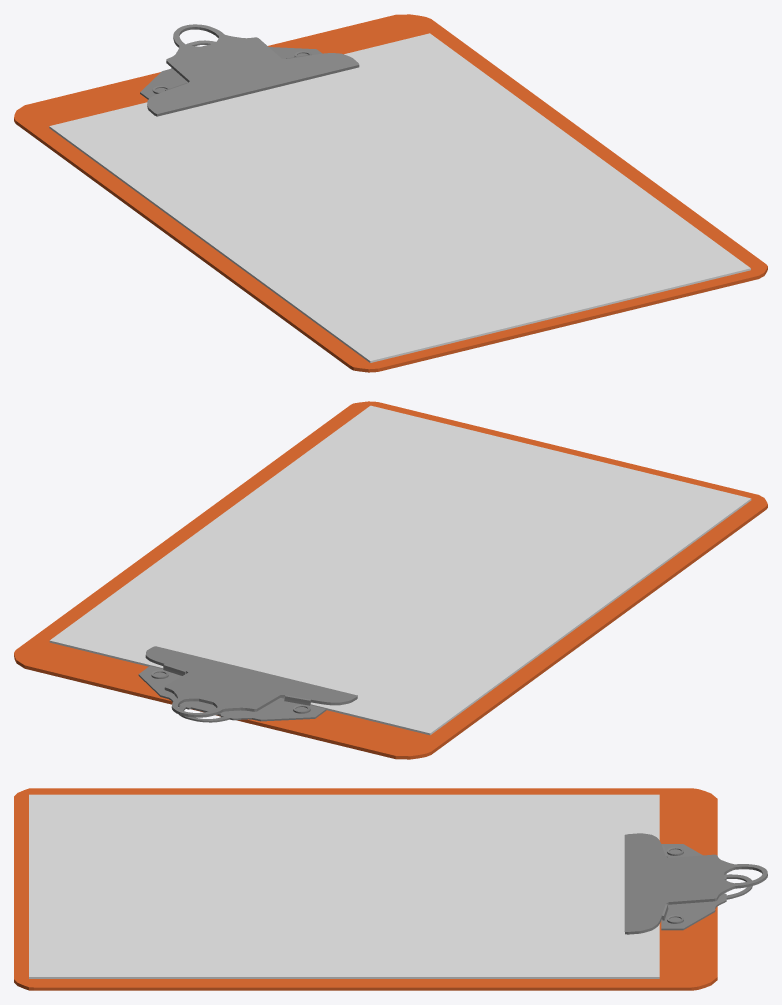
Rendered from Clipboard.fbx.
3 renders of one model, top to bottom at view 1: azimuth 30°, elevation 25°; view 2: azimuth 150°, elevation 25°; view 3: azimuth 270°, elevation 25°, orthographic.
Visible parts, largest first — view 1: Cube.002, Cube, Cube.003; view 2: Cube.002, Cube, Cube.003; view 3: Cube.002, Cube, Cube.003.
Part boxes in pixels (<box>): Cube.002: <box>49,33,750,362</box>; Cube: <box>14,14,767,372</box>; Cube.003: <box>140,24,359,116</box>; Cube.002: <box>49,405,751,735</box>; Cube: <box>14,401,767,759</box>; Cube.003: <box>138,646,357,722</box>; Cube.002: <box>29,794,659,978</box>; Cube: <box>14,788,717,990</box>; Cube.003: <box>624,833,767,934</box>.
Bounding box in the file's own units: 124 × 5.42 × 198.
